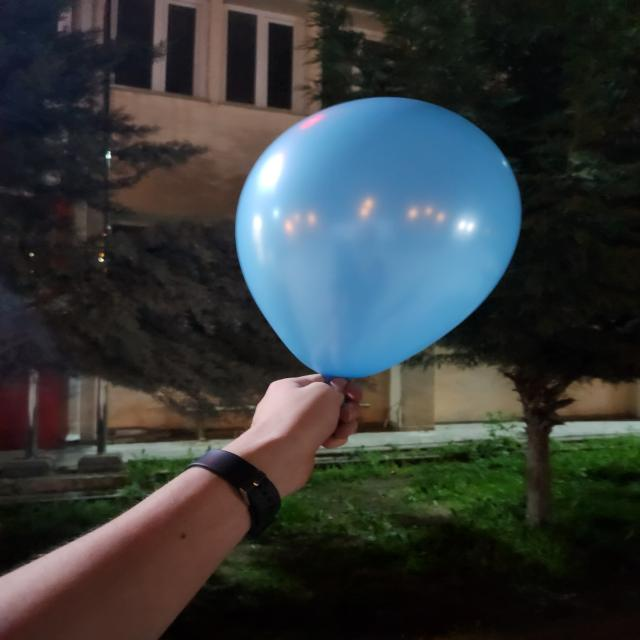blue: (236, 97, 522, 378)
